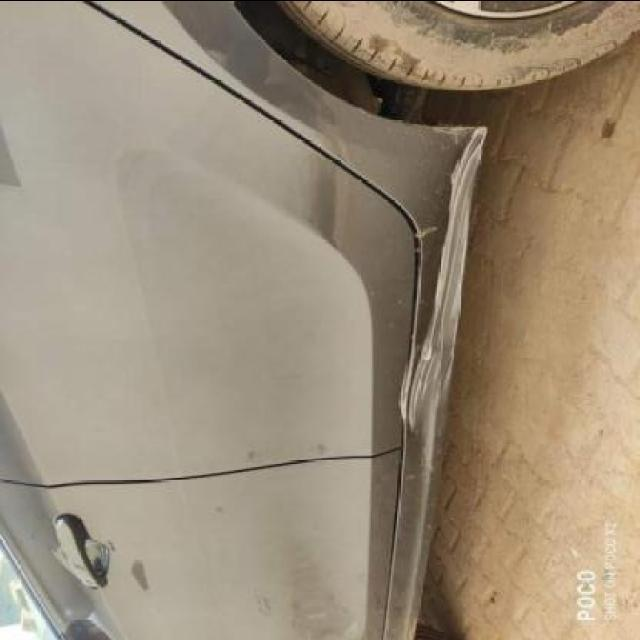RunningBoard-Dent: (379, 116, 492, 463)
doorouter-dent: (293, 104, 357, 257)
